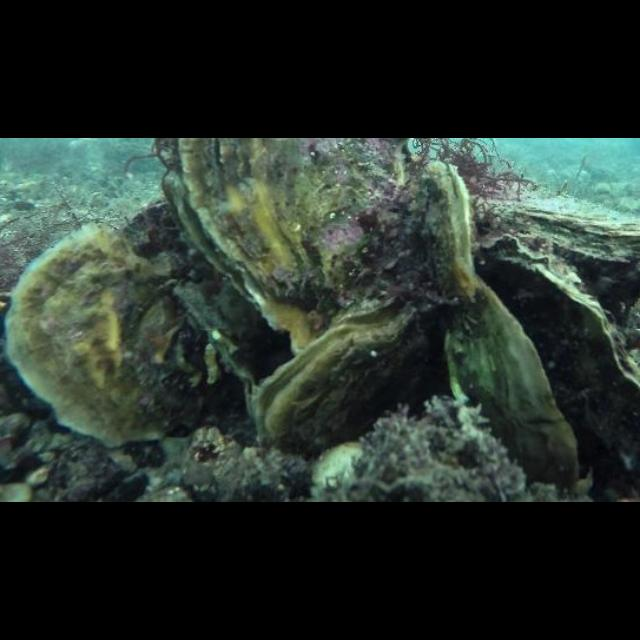Oyster-Closed: (4, 224, 215, 445), (472, 192, 639, 262)
Oyster-Open: (164, 138, 451, 353), (447, 232, 639, 496), (254, 304, 429, 456), (414, 161, 476, 298)
